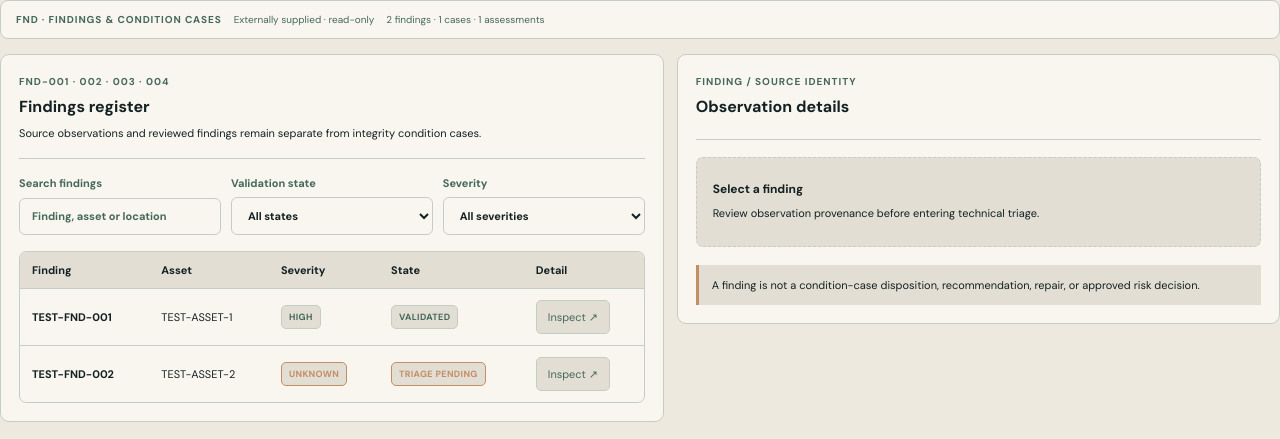
Test: SCR-FND-001 findings register › does not collapse unknown severity into low
Step 1. Select "UNKNOWN" in the dropdown labelled "Severity" → [544, 216], box [443,197,645,235]
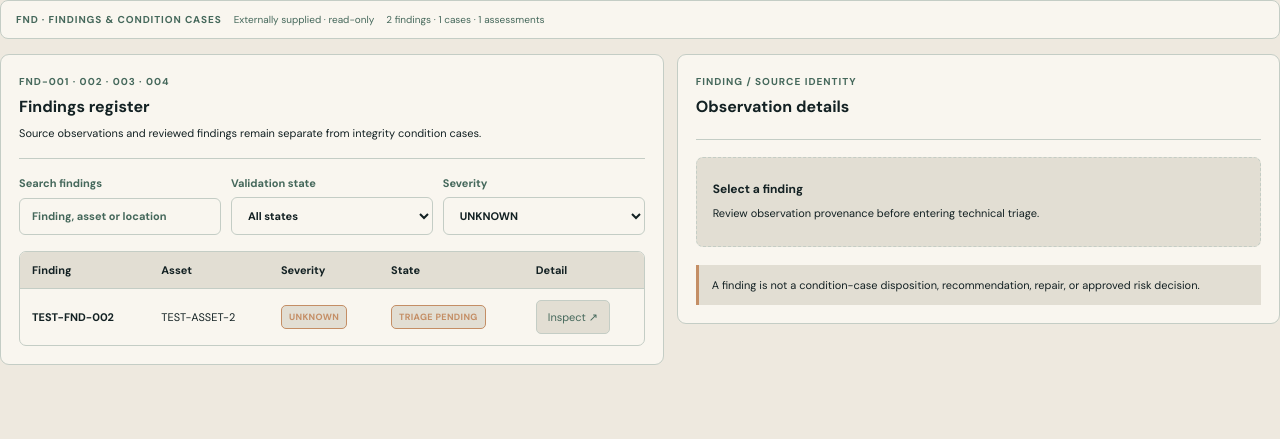
Expected: the column heading "TEST-FND-002" is shown, [20,288,149,345]
Result: the column heading "TEST-FND-001" is gone
